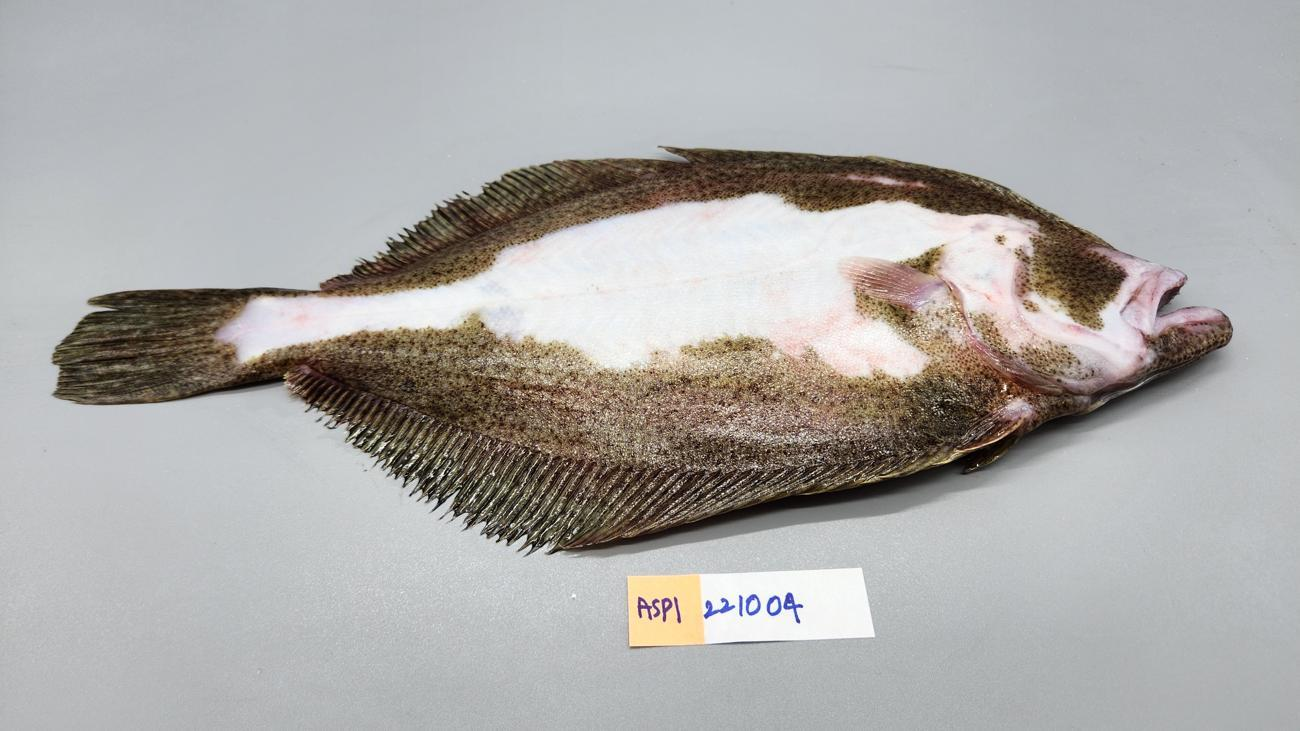SPDYH: (756, 268, 792, 302), (281, 306, 319, 331)
SPFCH: (58, 289, 234, 401)
SPOUY: (38, 136, 1244, 564)
